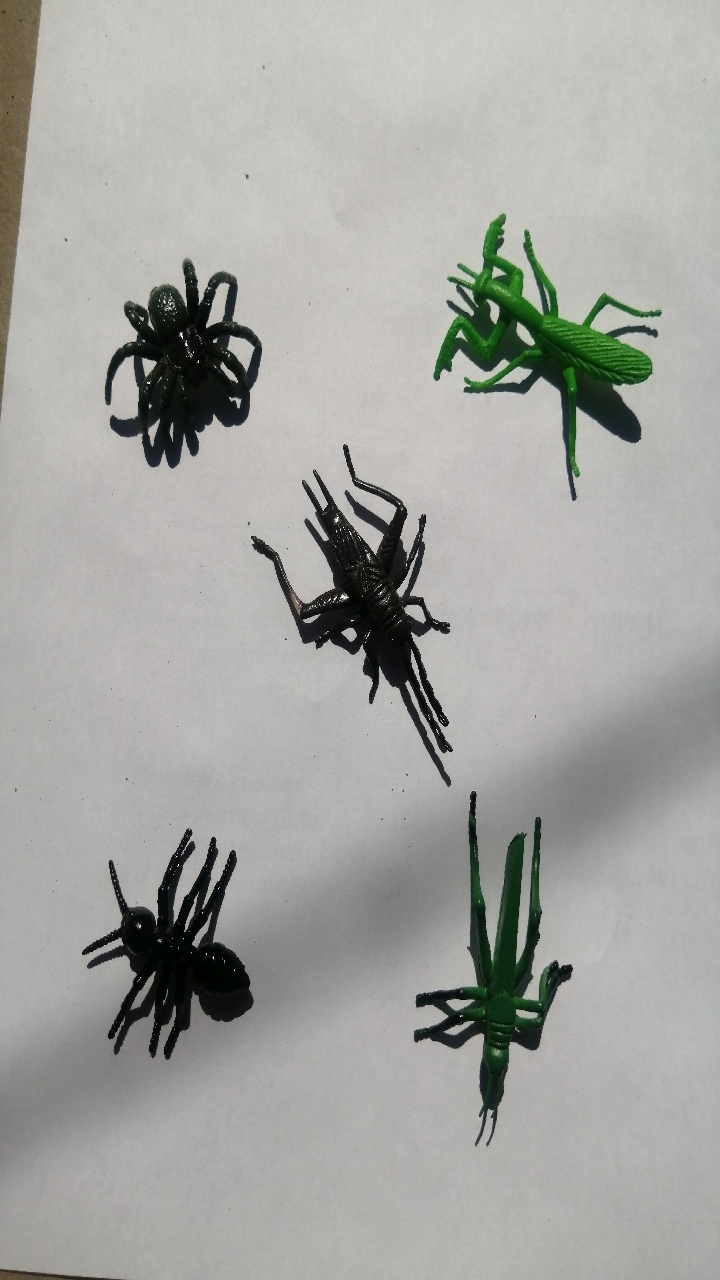intruso: (223, 432, 491, 799), (404, 214, 692, 489), (394, 763, 595, 1154), (40, 792, 277, 1068), (66, 232, 278, 468)
